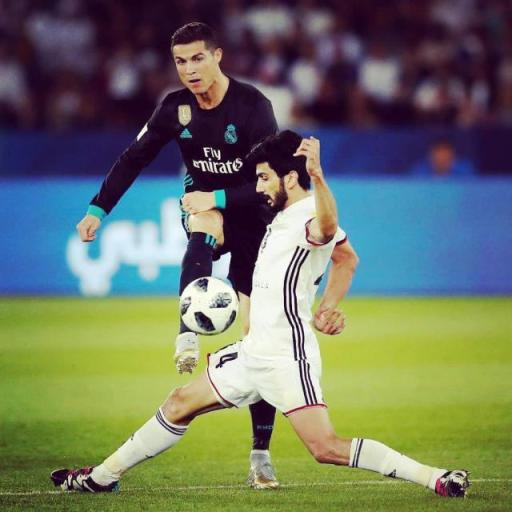Adidas: (178, 126, 192, 141)
Emirates: (190, 144, 244, 176)
